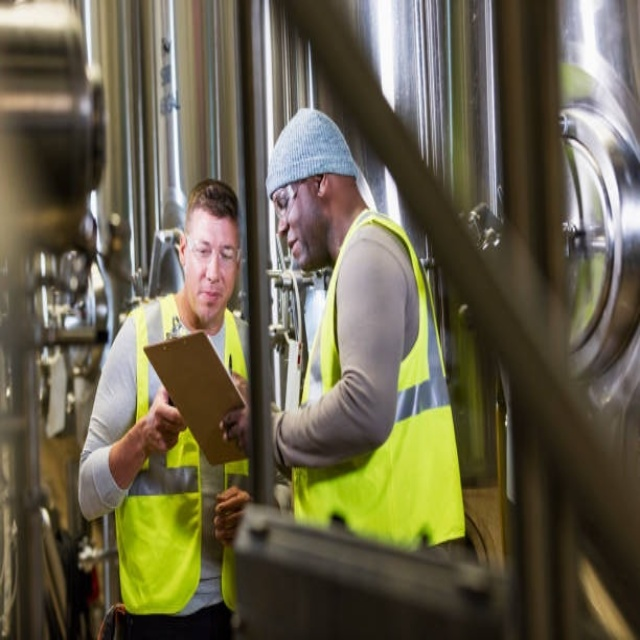Gafas: (271, 177, 321, 219), (186, 236, 241, 268)
Sin_guantes: (140, 385, 189, 458), (218, 371, 250, 454), (213, 485, 252, 545)
Sin_mascara: (193, 282, 224, 320), (282, 229, 308, 271)
